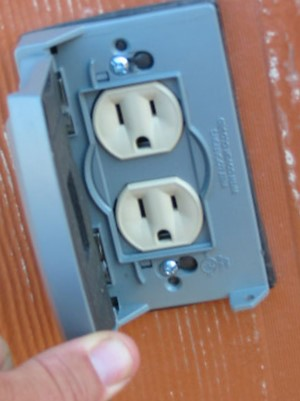outlet: (105, 92, 165, 153), (129, 184, 183, 245)
